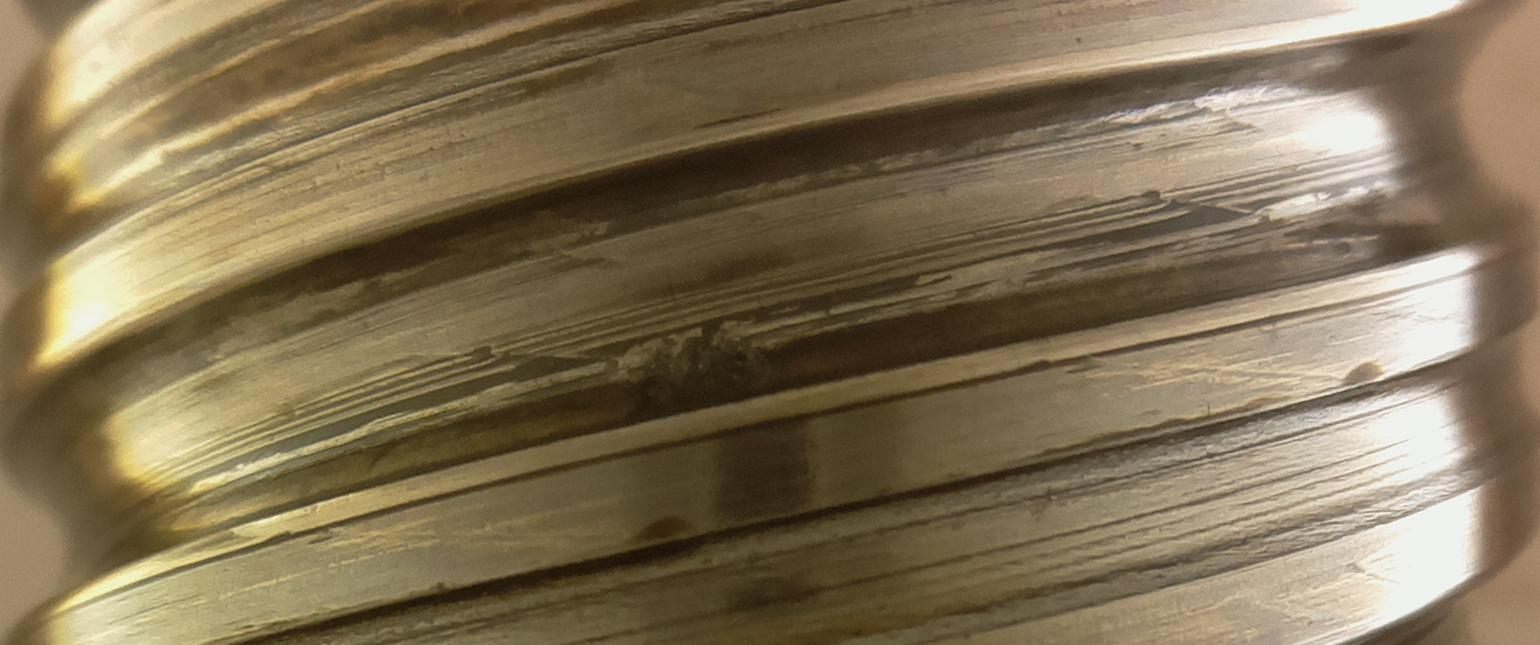pitting: (625, 317, 758, 423)
